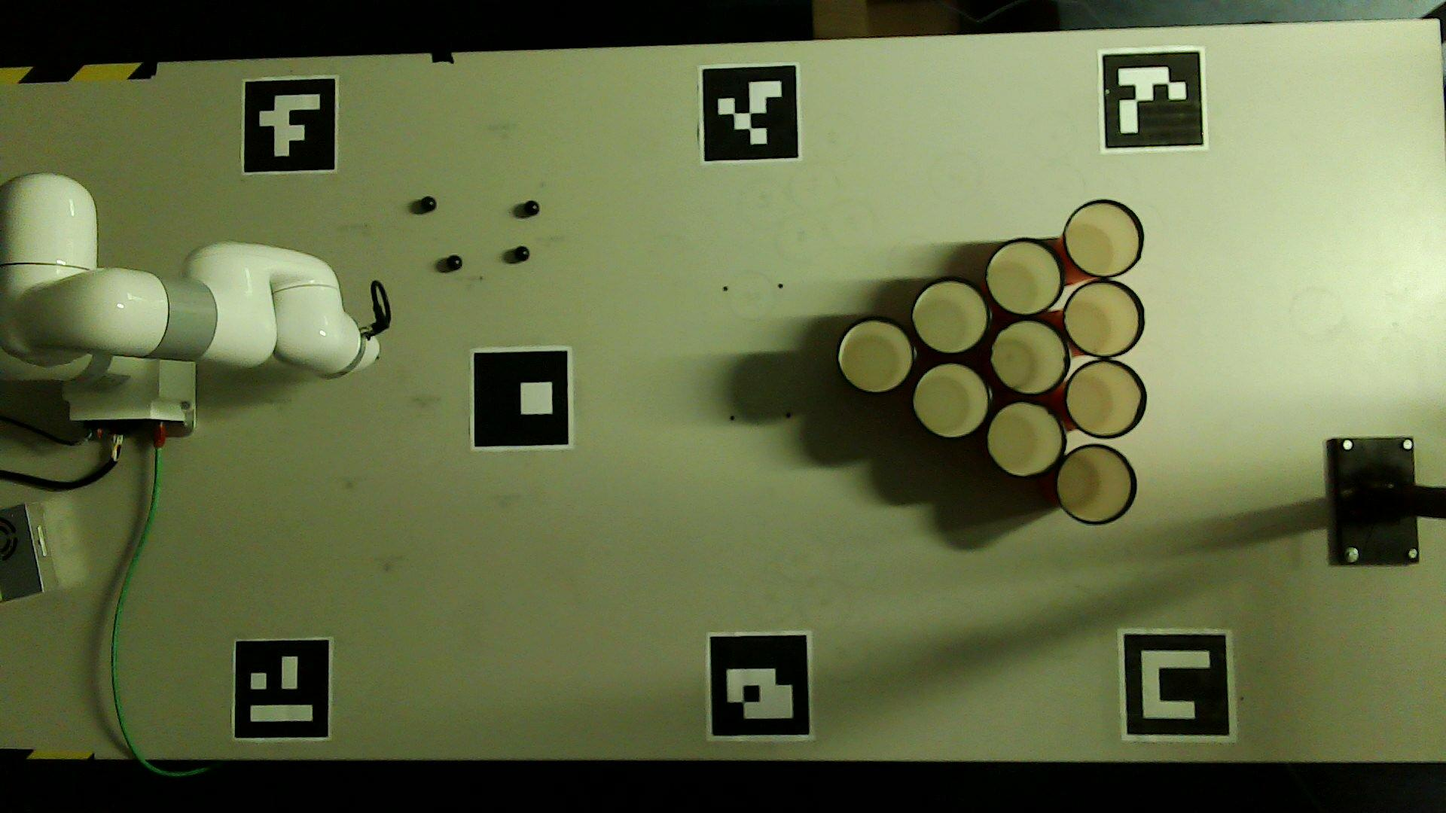ball: (421, 195, 436, 211), (515, 247, 529, 261), (448, 256, 461, 271), (524, 202, 539, 215)
cup: (1063, 280, 1143, 356), (1056, 446, 1134, 523), (1066, 360, 1143, 436), (986, 401, 1064, 476), (912, 362, 989, 437), (985, 240, 1062, 315), (836, 319, 914, 393), (912, 280, 988, 355), (1065, 201, 1141, 276), (989, 319, 1066, 393)
